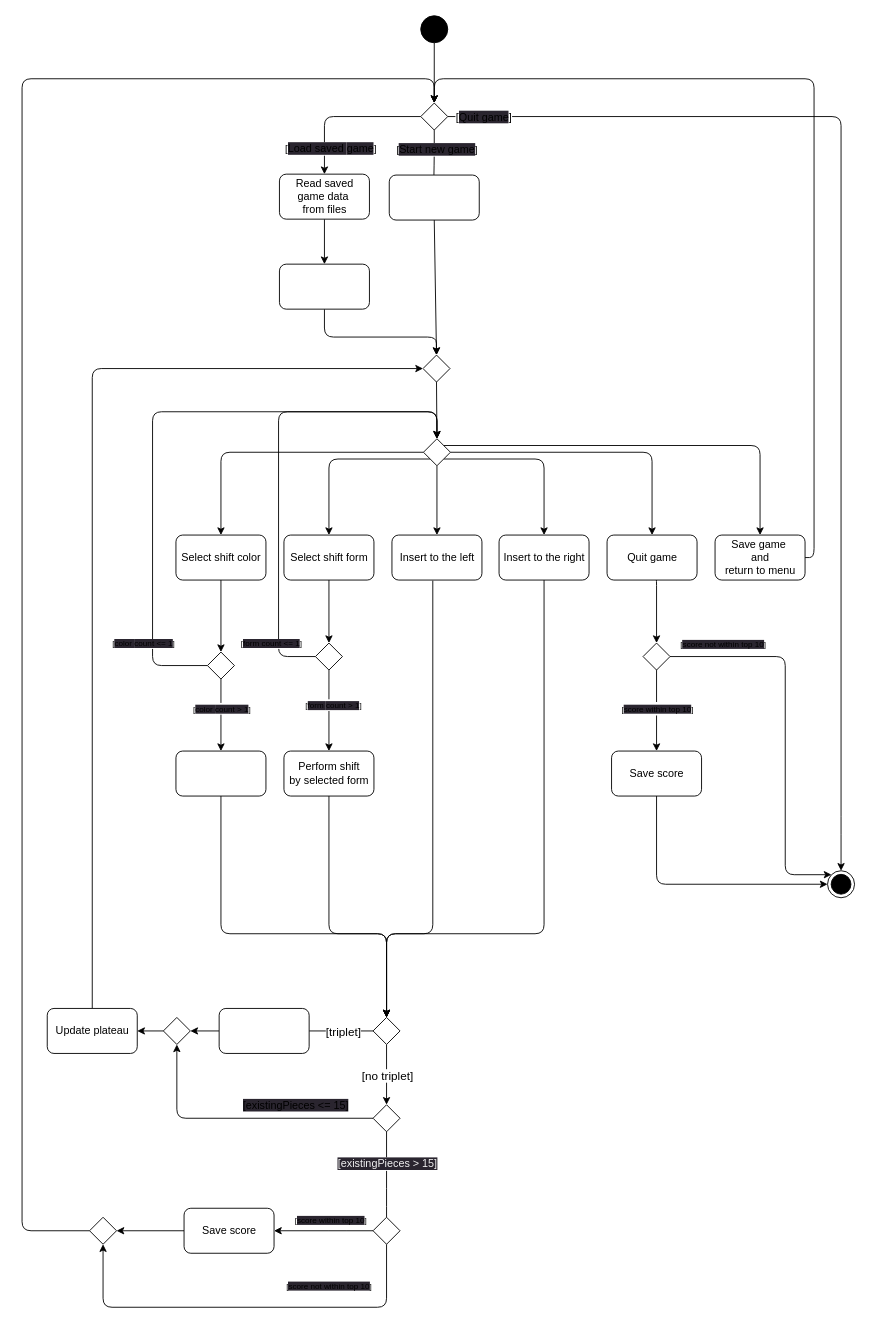
Image size: 870x1330. Some labels were removed from this diagram. Each missing label, with the box of its shape:
increase Score: (218, 1008, 309, 1053)
initilize game plateau with saved game data: (279, 263, 369, 309)
initilize new game plateau: (388, 174, 479, 220)
Perform shift by selected color: (175, 750, 266, 796)
